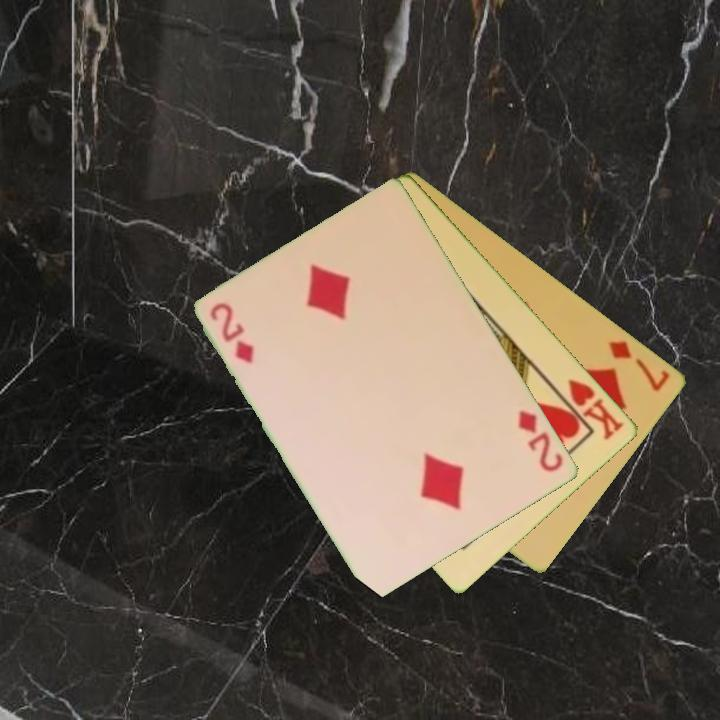2d: (515, 407, 567, 475), (207, 298, 258, 367)
7d: (606, 337, 673, 394)
Kh: (552, 375, 628, 443)
